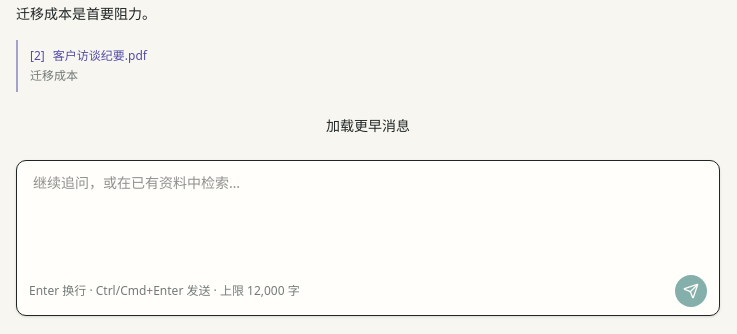
US2 消息、SSE 与用户反馈 › 按游标加载更早的消息历史，并为历史回答加载紧凑引用卡
Expected: the text "迁移成本是首要阻力。" is shown, [16,0,156,28]
Expected: the button "[2] 客户访谈纪要.pdf 迁移成本" is shown, [30,40,156,92]
Click the button "加载更早消息". click: (368, 126)
box: [16,108,720,144]
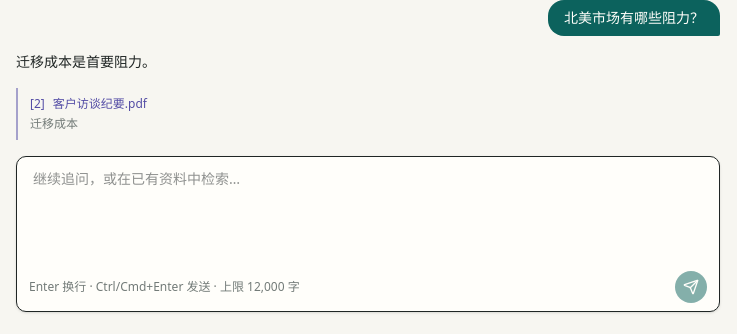
Now the text "北美市场有哪些阻力？" is shown, box [548,0,720,36]
